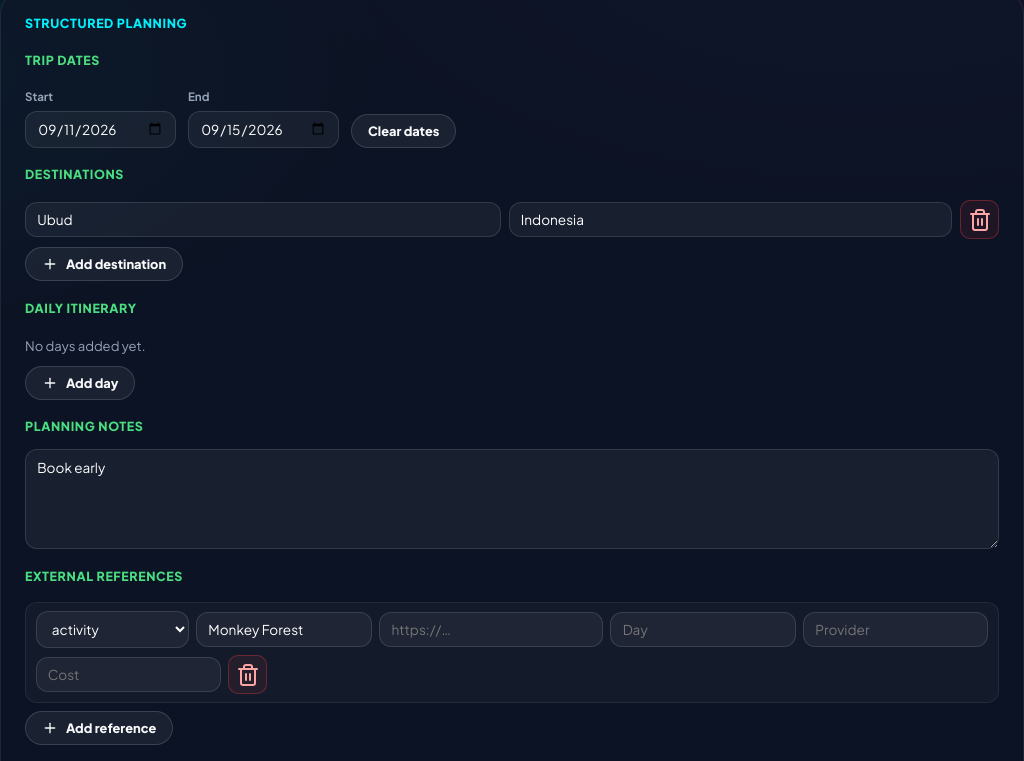
Test: PlanningEditor › blocks saving on an unsafe reference url and reports a clear problem
Type "javascript:alert(1)" into the field named "Reference url 1" at (491, 629), box [379, 612, 603, 647]
(page scrolled)
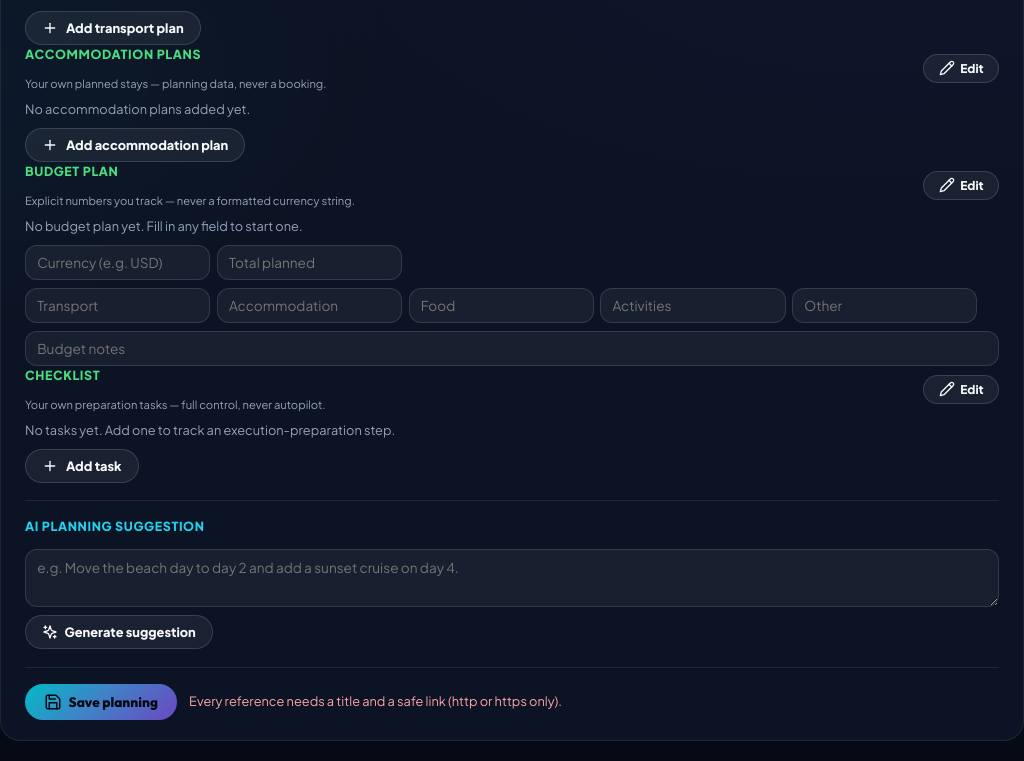
expect the button "Save planning" is disabled: met, box [25, 684, 177, 720]
expect the message shows "safe link": met, box [189, 693, 562, 709]
